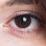eye: (15, 16, 31, 28)
